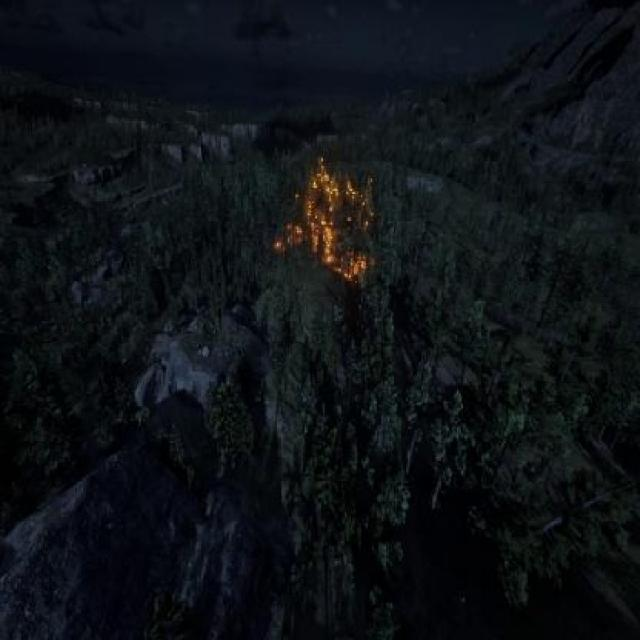Fire: (268, 146, 380, 294)
